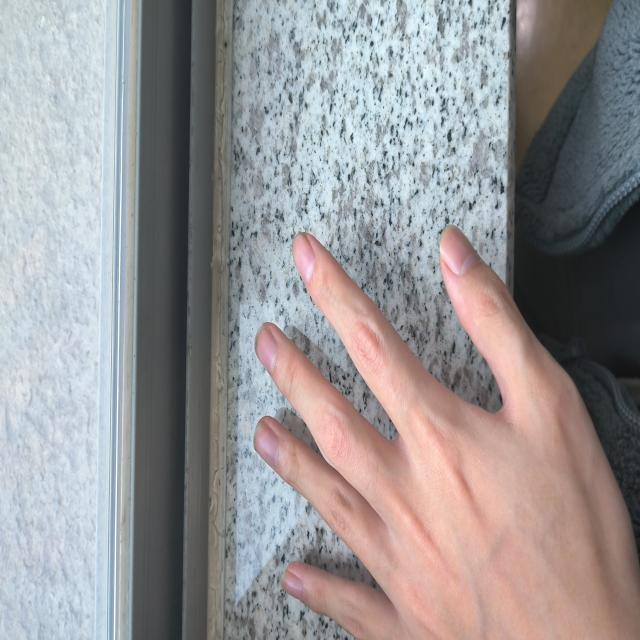Nail: (440, 225, 481, 276), (292, 232, 316, 284), (253, 422, 279, 468), (255, 325, 277, 371), (280, 571, 304, 599)
